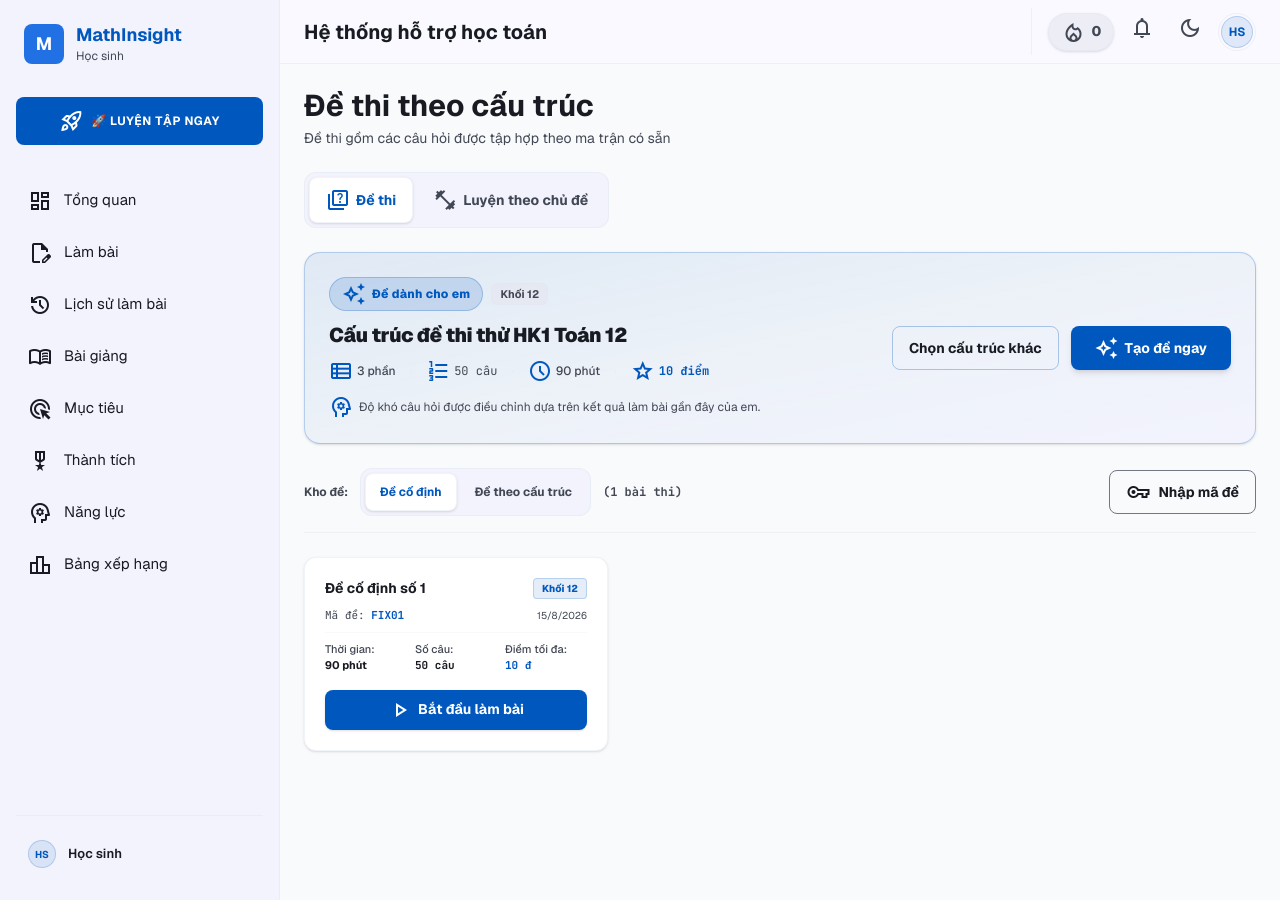
Test: SharedBlueprintExamDiscoveryPage - Redesign & Featured Adaptive Panel › preserves Fixed and Random catalog separation and tab switching
Expected: the heading "Đề cố định số 1" is shown, [325, 578, 426, 598]
Click the tab "Đề theo cấu trúc".
click(523, 492)  # box [461, 473, 586, 511]
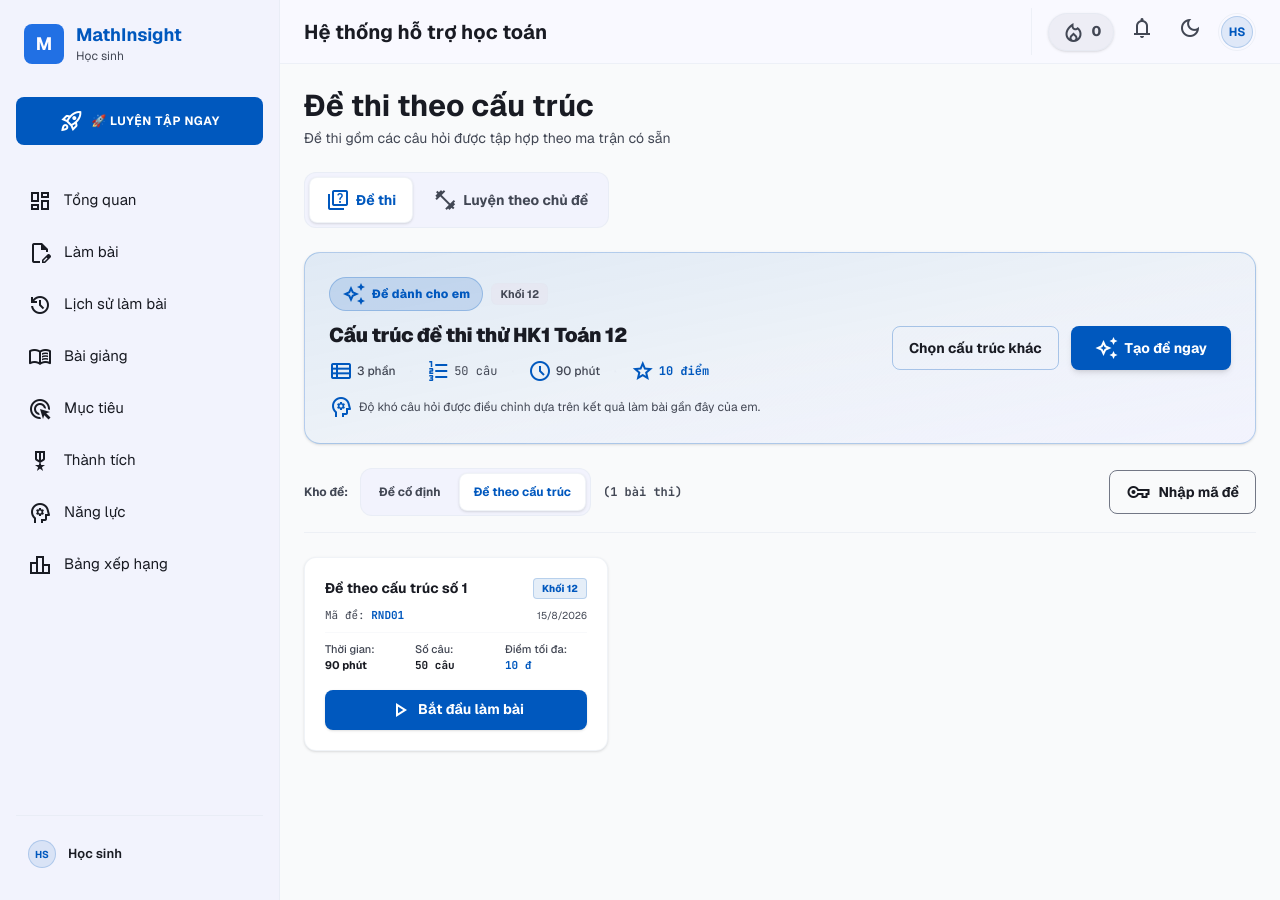
Expected: the heading "Đề theo cấu trúc số 1" is shown, [325, 578, 468, 598]
Expected: the heading "Đề cố định số 1" is gone
